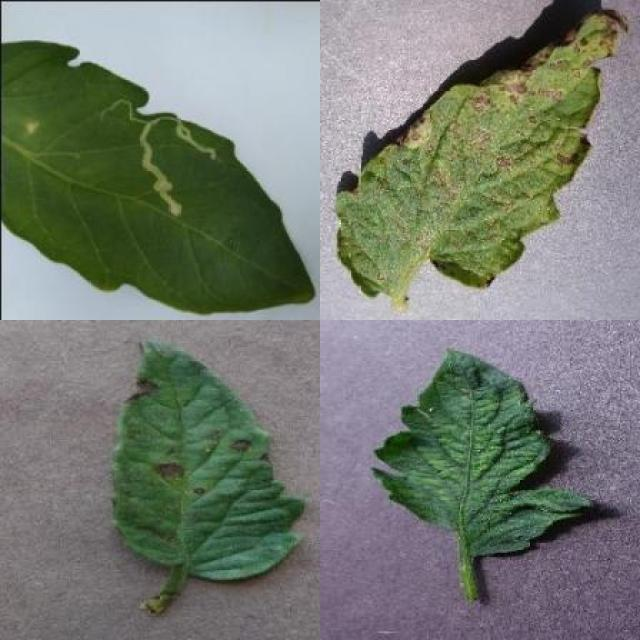Early Blight: (112, 340, 308, 586)
Leaf Miner: (0, 38, 314, 317)
Mosaic Virus: (371, 347, 596, 560)
Septoria: (335, 8, 631, 298)
